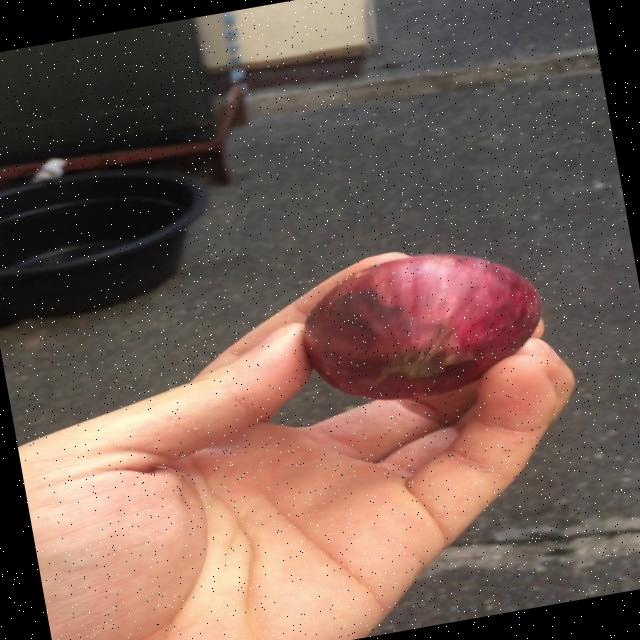Onion: (303, 254, 541, 400)
